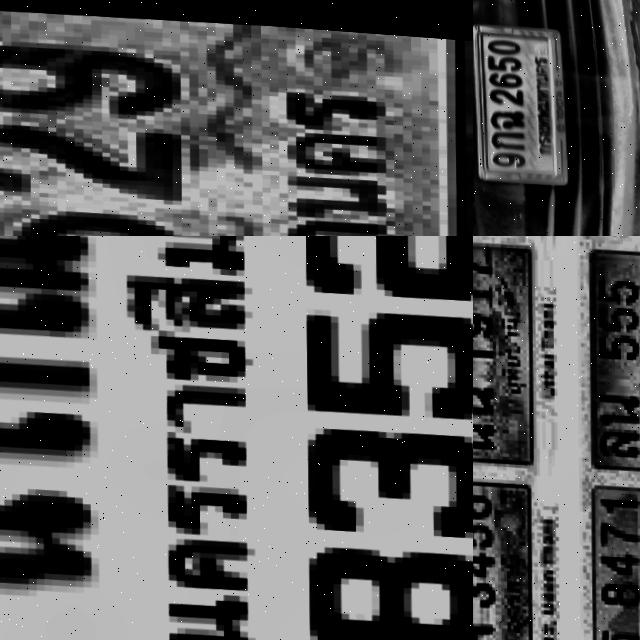license-plate: (0, 236, 473, 640), (0, 0, 473, 236), (473, 14, 564, 181), (473, 236, 535, 455), (588, 237, 640, 463), (473, 471, 531, 640), (587, 473, 640, 640)
